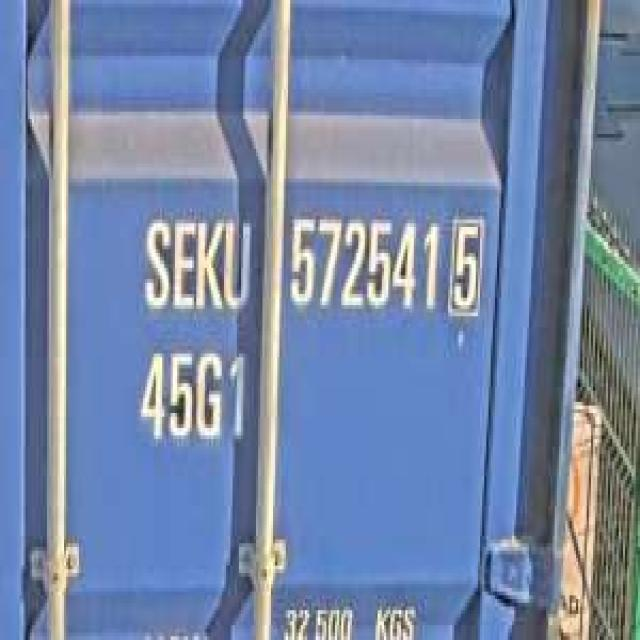dv: (444, 208, 484, 320)
owner: (134, 204, 254, 324)
serial: (284, 205, 439, 328)
size: (132, 339, 250, 450)
